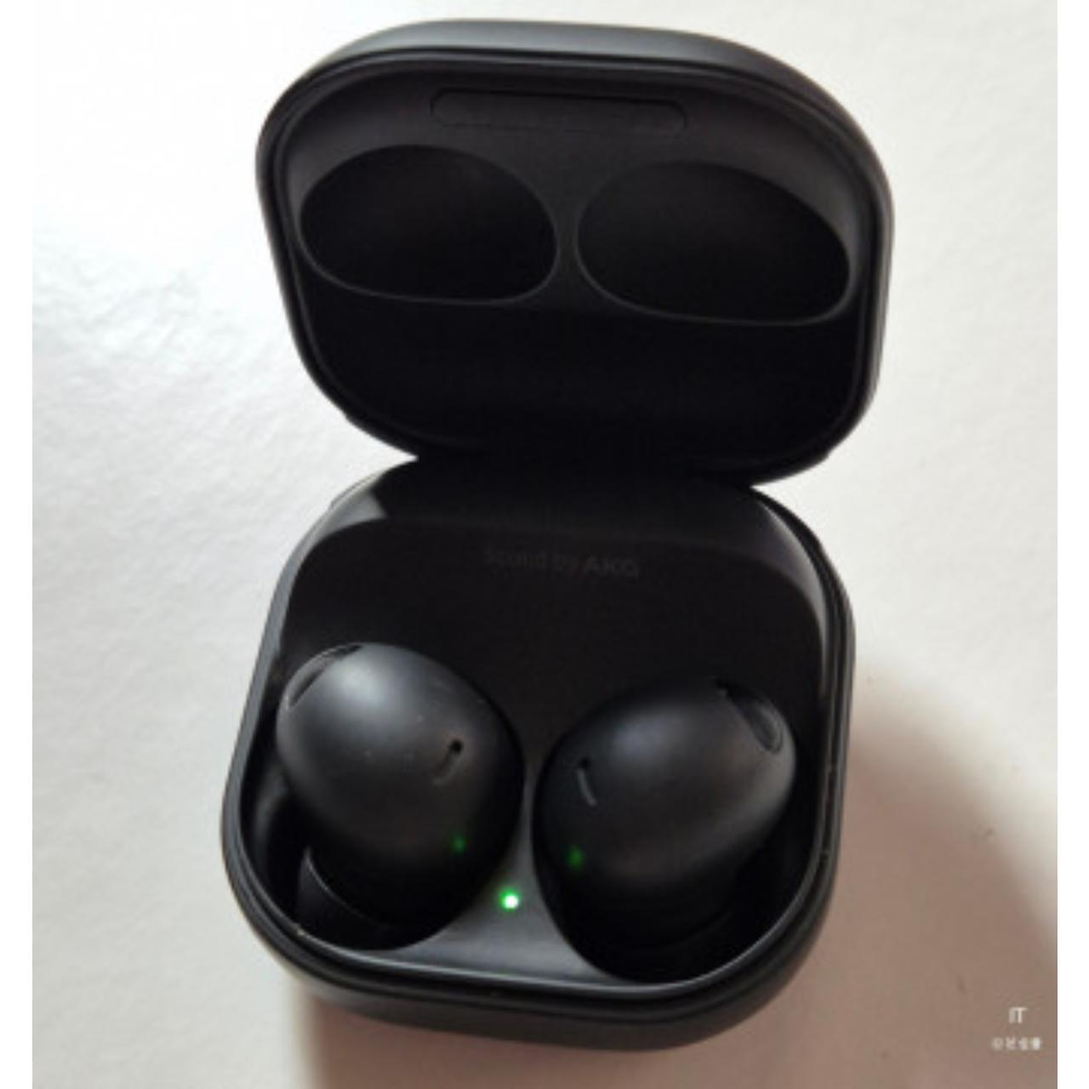Buds: (211, 10, 900, 1055)
Buds_Units: (531, 666, 812, 983), (261, 624, 530, 955)
